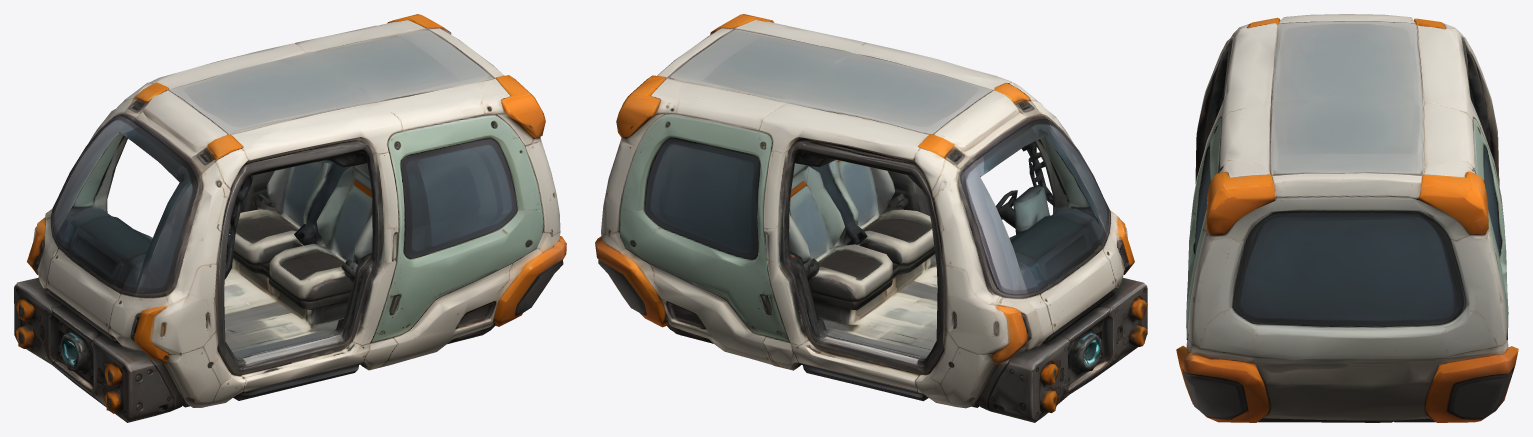
File: futuristic vehicle 3d model (1).glb
The picture shows the model from 3 angles, left to right: view 1: azimuth 30°, elevation 25°; view 2: azimuth 150°, elevation 25°; view 3: azimuth 270°, elevation 25°; orthographic projection. The views are drawn at different scales.
Parts seen in each view (by area): view 1: tripo_node_cefb62ed-905c-432b-a17a-8f881076ff05; view 2: tripo_node_cefb62ed-905c-432b-a17a-8f881076ff05; view 3: tripo_node_cefb62ed-905c-432b-a17a-8f881076ff05.
Part boxes in pixels (box(x1,y1,x2,y2)): tripo_node_cefb62ed-905c-432b-a17a-8f881076ff05: box(14, 14, 566, 422); tripo_node_cefb62ed-905c-432b-a17a-8f881076ff05: box(595, 14, 1147, 422); tripo_node_cefb62ed-905c-432b-a17a-8f881076ff05: box(1176, 14, 1518, 422).
Bounding box in the file's own units: 1 × 0.5358 × 0.5967.
Materials: 1 (1 with a texture image).
